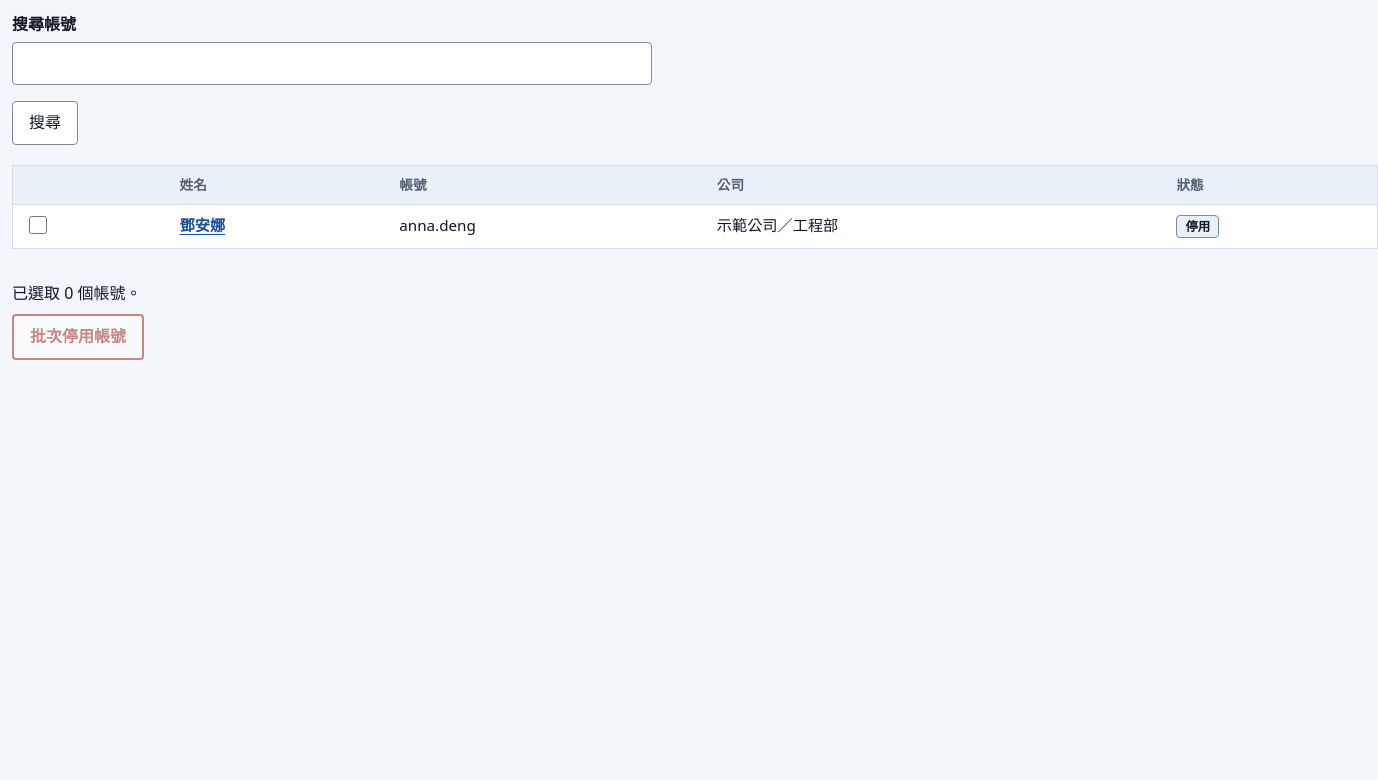
Scenario: UsersPage 批次停用帳號（#414） › 到期外部帳號不能透過批次啟用確認
expect the row "鄧安娜 anna.deng 示範公司／工程部 停用" is shown: met, box top-left (12, 204), bottom-right (1377, 248)
Click the checkbox named "選取 anna.deng" at coordinates (38, 225), box top-left (29, 216), bottom-right (47, 234)
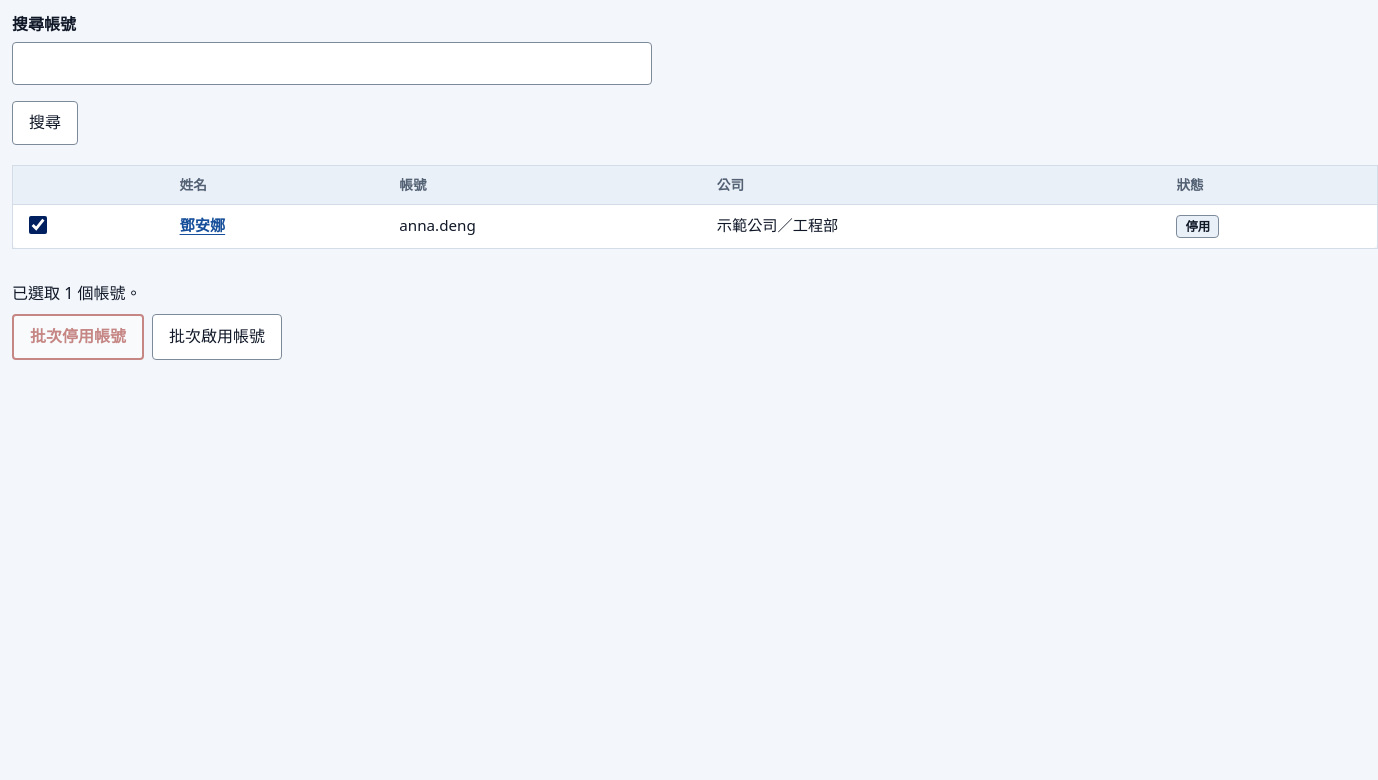
Click the button "批次啟用帳號" at coordinates (217, 337), box top-left (152, 314), bottom-right (282, 360)
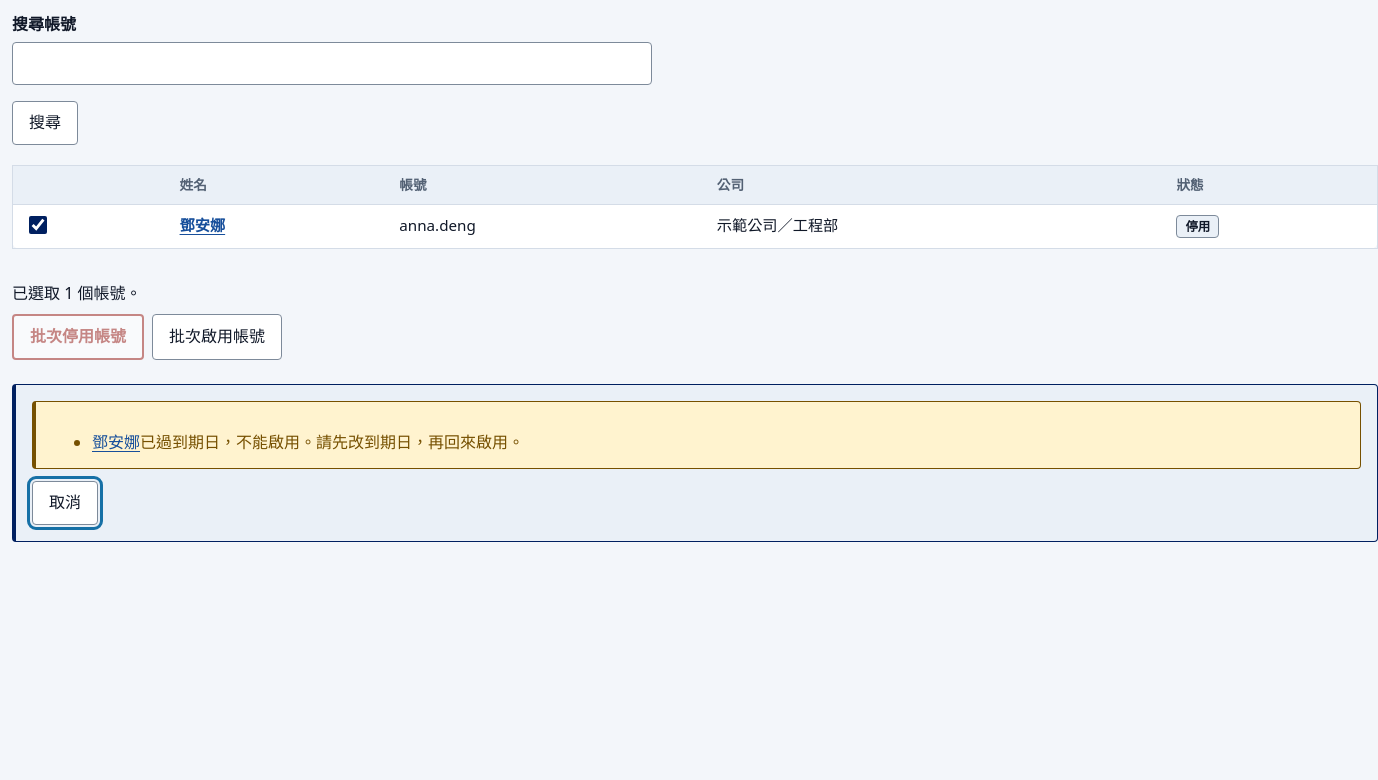
expect the message reads "鄧安娜 已過到期日，不能啟用。請先改到期日，再回來啟用。": met, box top-left (32, 401), bottom-right (1361, 469)
expect the number of links "鄧安娜" is 1: met, box top-left (92, 431), bottom-right (140, 453)
